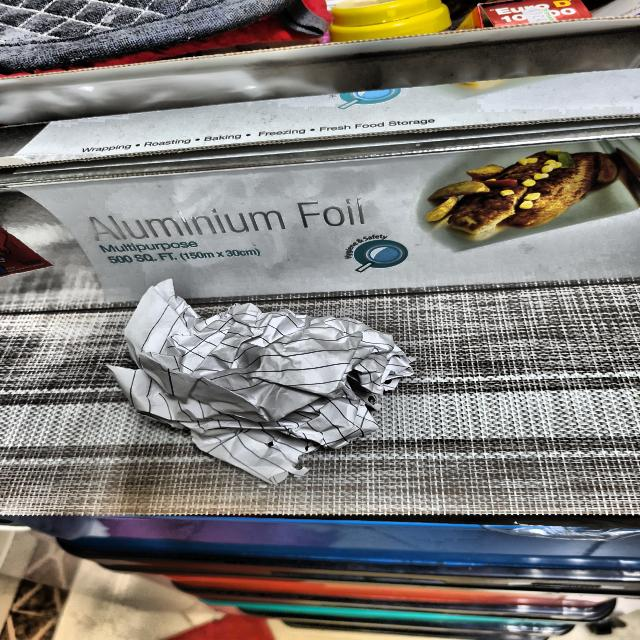Paper: (106, 302, 405, 480)
